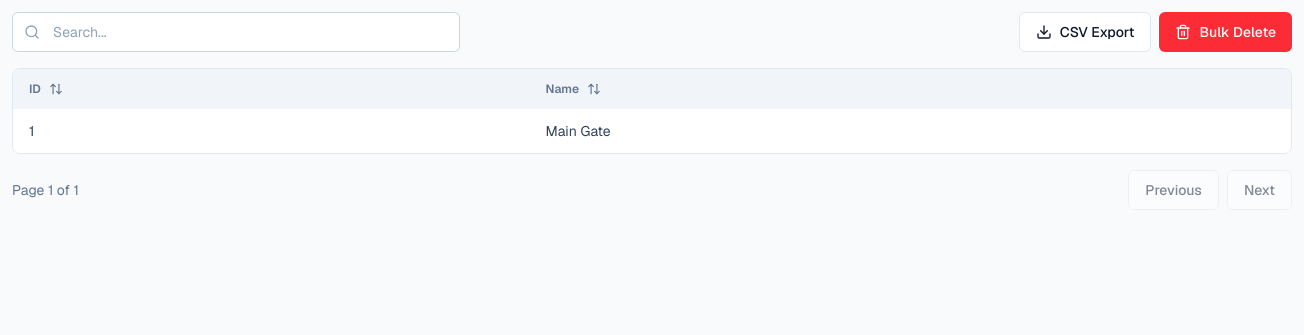
DataTable › filters rows and shows an empty state
In the field with placeholder "Search...": (236, 32) [12,12,460,52], type "missing"
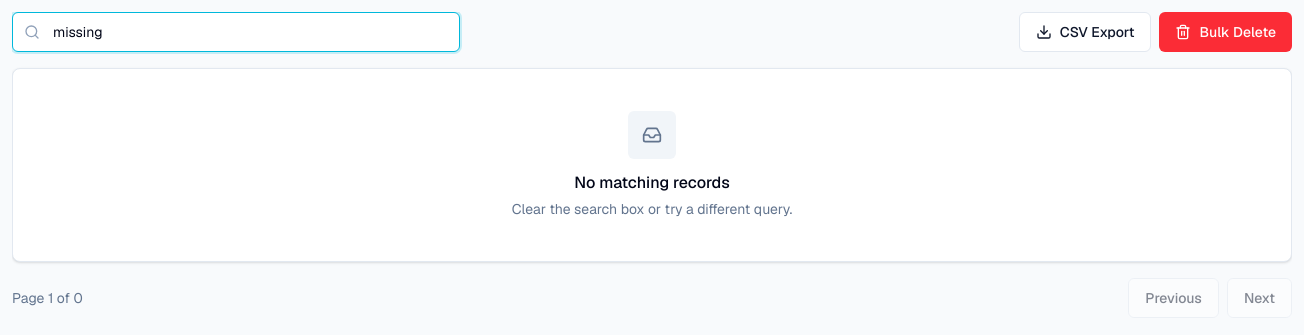
Expected: the text "No matching records" is shown, [574,172,730,193]
